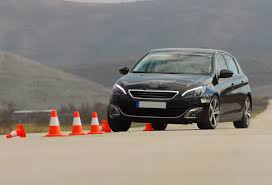car: (107, 49, 257, 134)
cone: (44, 108, 66, 137), (69, 110, 86, 137), (6, 124, 28, 140), (90, 112, 102, 135)
